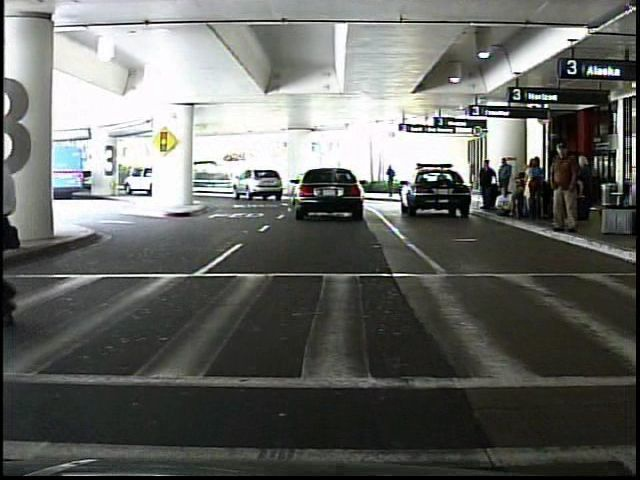person: (546, 141, 584, 237), (477, 159, 498, 214), (387, 164, 400, 200), (126, 163, 137, 188)
